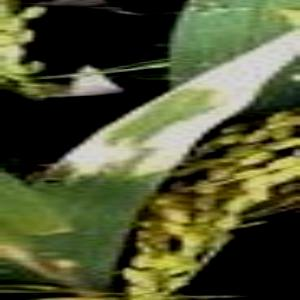2 BacterialBlight: (53, 61, 213, 280)
